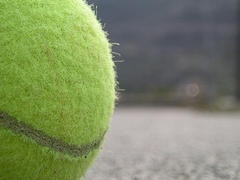tennis ball: (1, 1, 118, 179)
